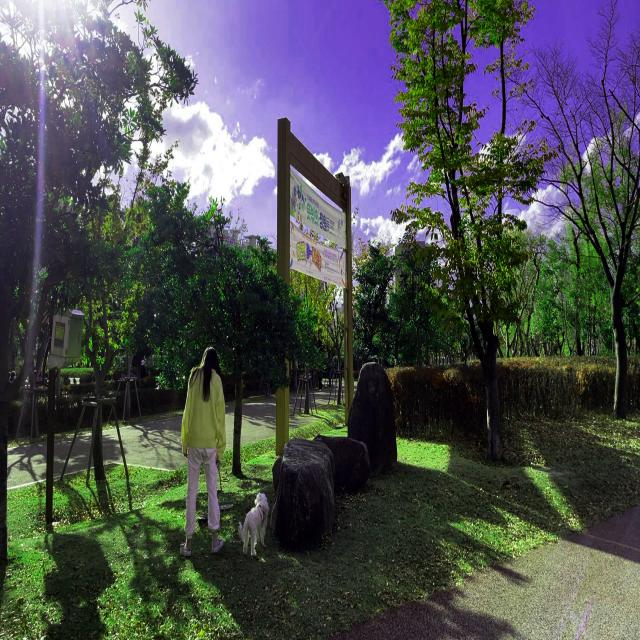Leashed_Dog: (212, 431, 270, 559)
